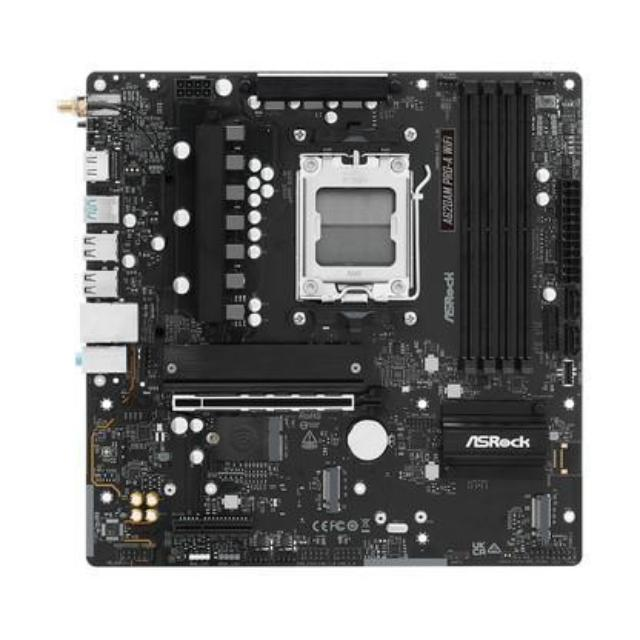Mainboard: (70, 49, 592, 586)
